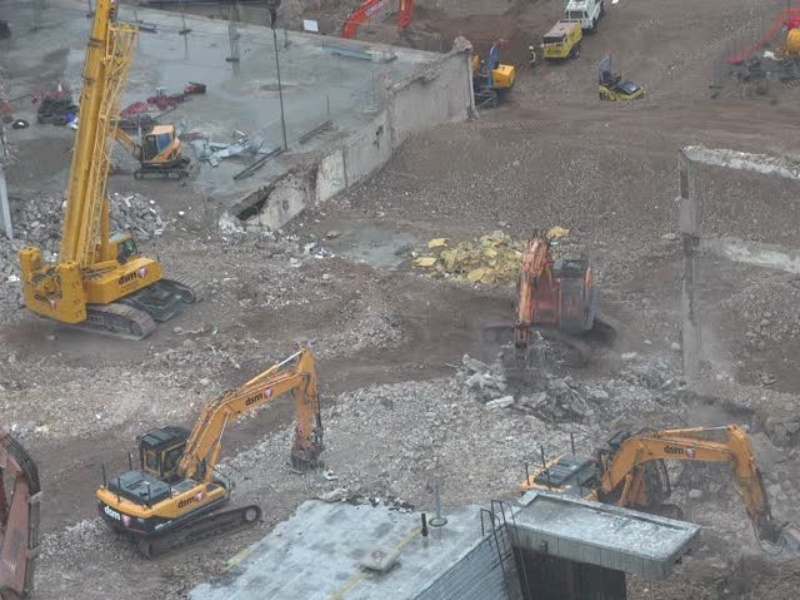crane: (16, 1, 208, 344)
excavator: (93, 347, 330, 563), (515, 421, 791, 552), (494, 234, 609, 385)
